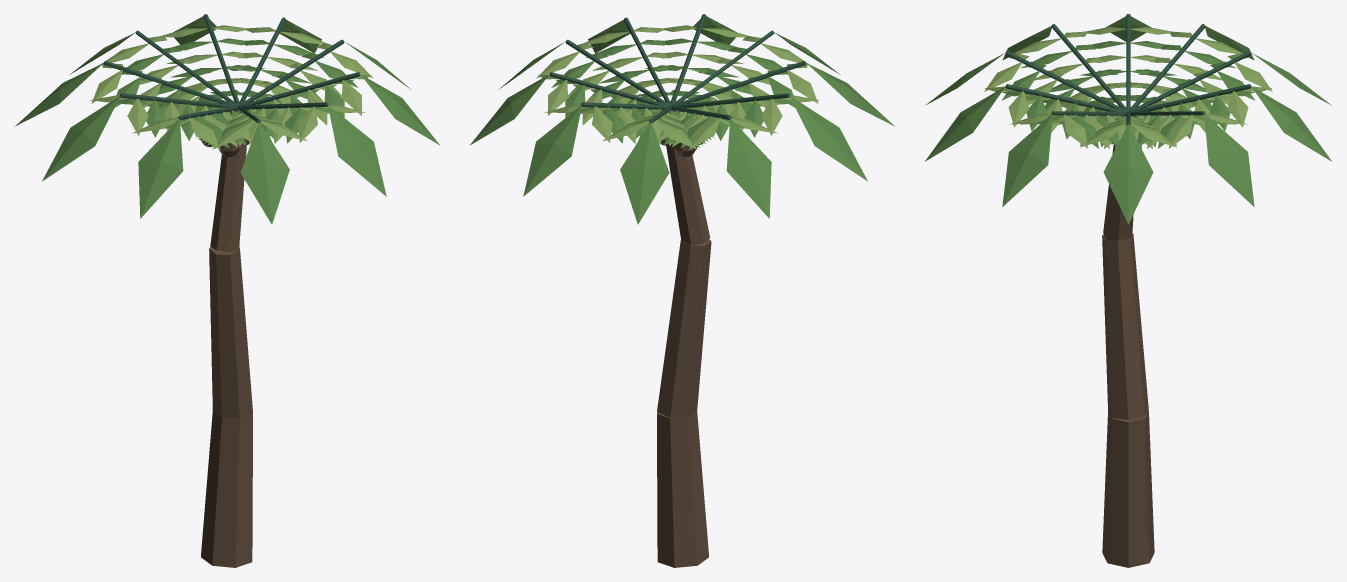
File: nature-palm.lod0.glb
The picture shows the model from 3 angles, left to right: view 1: azimuth 30°, elevation 25°; view 2: azimuth 150°, elevation 25°; view 3: azimuth 270°, elevation 25°; orthographic projection.
Parts seen in each view (by area): view 1: nature-palm__body; view 2: nature-palm__body; view 3: nature-palm__body.
Part boxes in pixels (left/top/right/bottom): nature-palm__body: left=14, top=14, right=439, bottom=567; nature-palm__body: left=470, top=14, right=895, bottom=567; nature-palm__body: left=925, top=14, right=1331, bottom=567.
Size of the model in its own units: 4.8 by 6.06 by 4.57.
